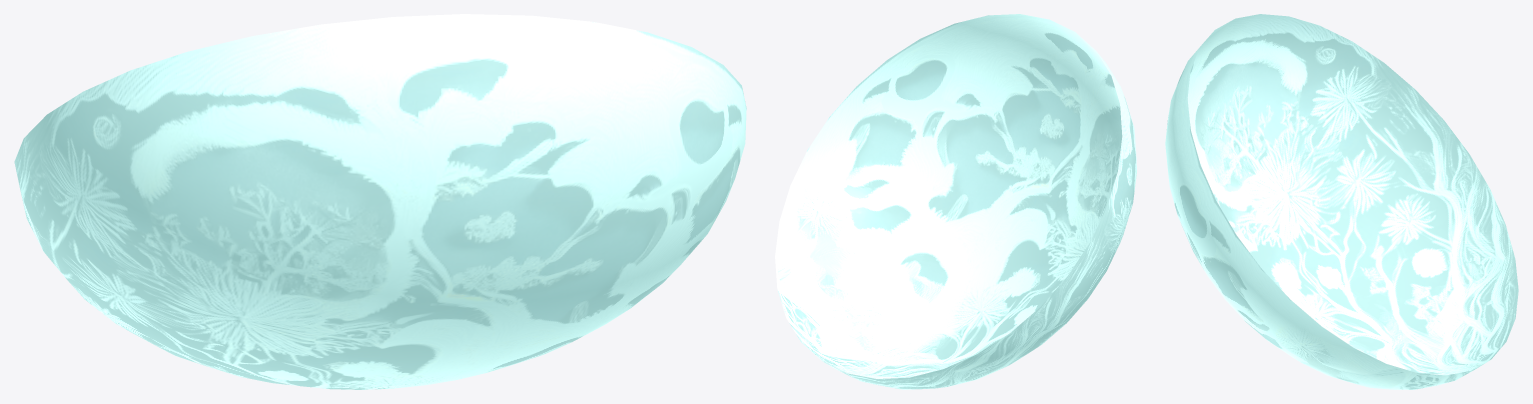
Rendered from S1_Moon.fbx.
3 renders of one model, left to right at view 1: azimuth 30°, elevation 25°; view 2: azimuth 150°, elevation 25°; view 3: azimuth 270°, elevation 25°, orthographic. The views are drawn at different scales.
Parts seen in each view (by area): view 1: Moon; view 2: Moon; view 3: Moon.
Boxes of the visible parts, box(x1,y1,x2,y2) form: Moon: box(14, 14, 746, 389); Moon: box(775, 14, 1136, 389); Moon: box(1165, 14, 1518, 389).
Size of the model in its own units: 73334 by 57578 by 62066.
Materials: 1 (1 with a texture image).
